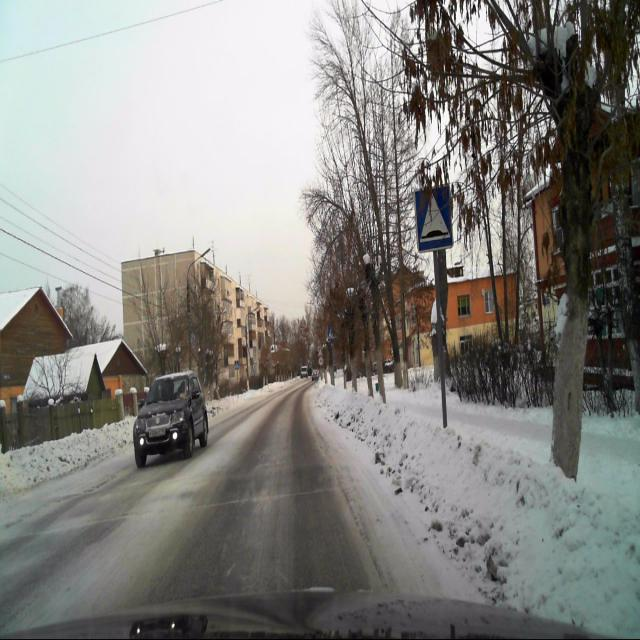road sign: (413, 184, 453, 254)
